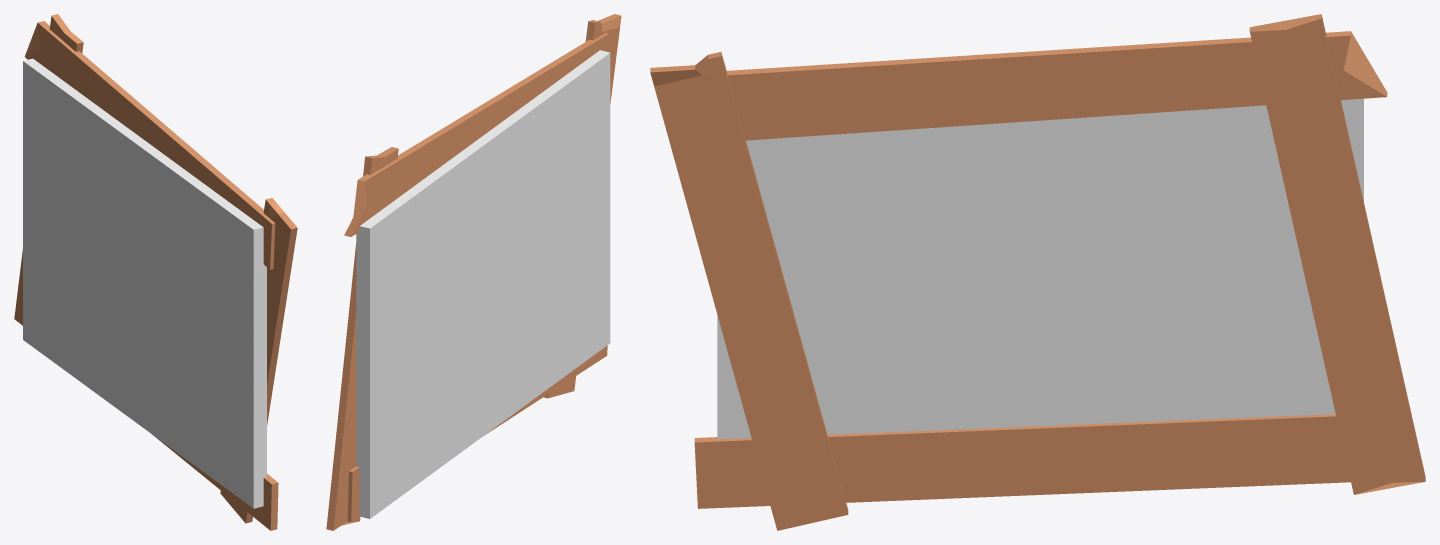
The model's file is Sign.fbx.
The picture shows the model from 3 angles, left to right: view 1: azimuth 30°, elevation 25°; view 2: azimuth 150°, elevation 25°; view 3: azimuth 270°, elevation 25°; orthographic projection. The views are drawn at different scales.
Parts seen in each view (by area): view 1: Cube, Cube.001; view 2: Cube, Cube.001; view 3: Cube, Cube.001.
Boxes of the visible parts, x1,y1,x2,y2 form: Cube: (23,58,266,508); Cube.001: (14,14,297,530); Cube: (356,50,610,518); Cube.001: (326,14,621,530); Cube: (717,98,1363,439); Cube.001: (650,14,1425,530).
Bounding box in the file's own units: 17.13 × 262 × 360.
